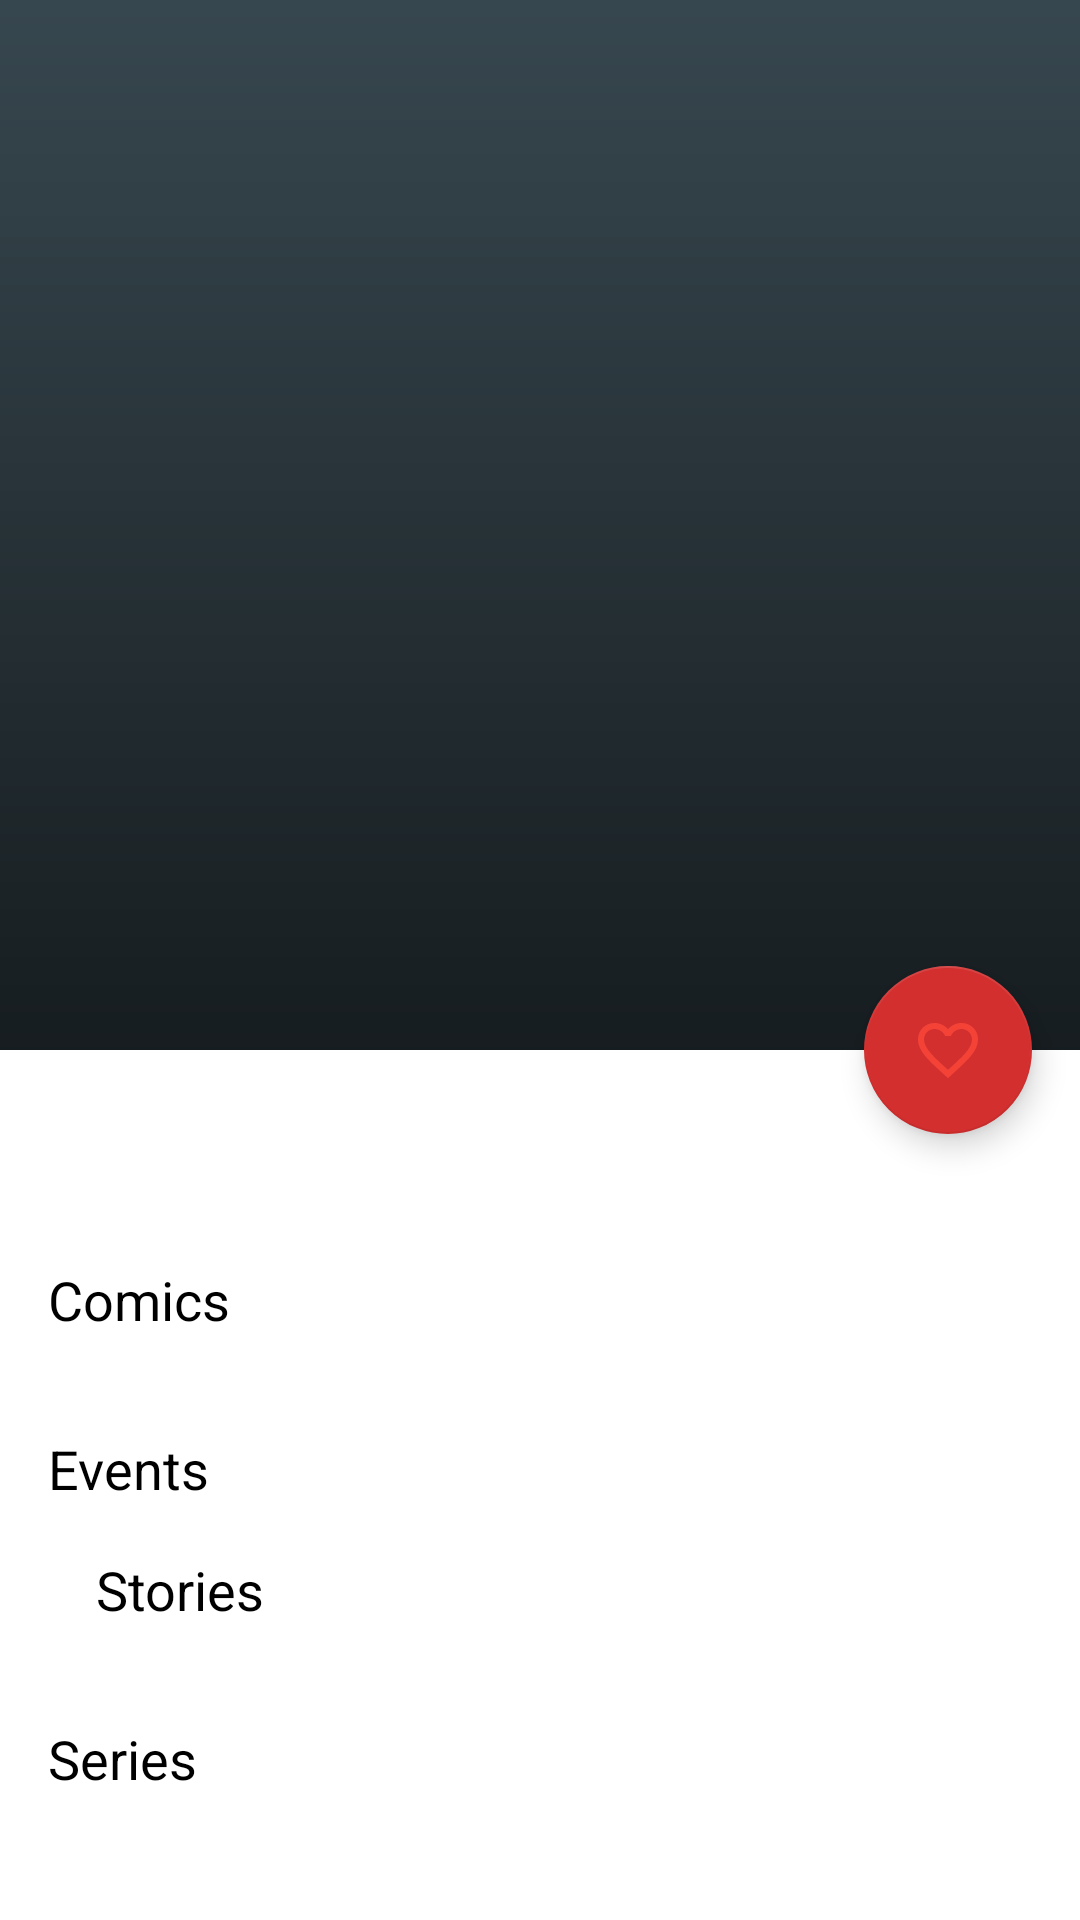

Icons on this 1080px x 1920px Android screen, each with the point to tap as (x=x, y=y):
heart: (x=948, y=1050)
